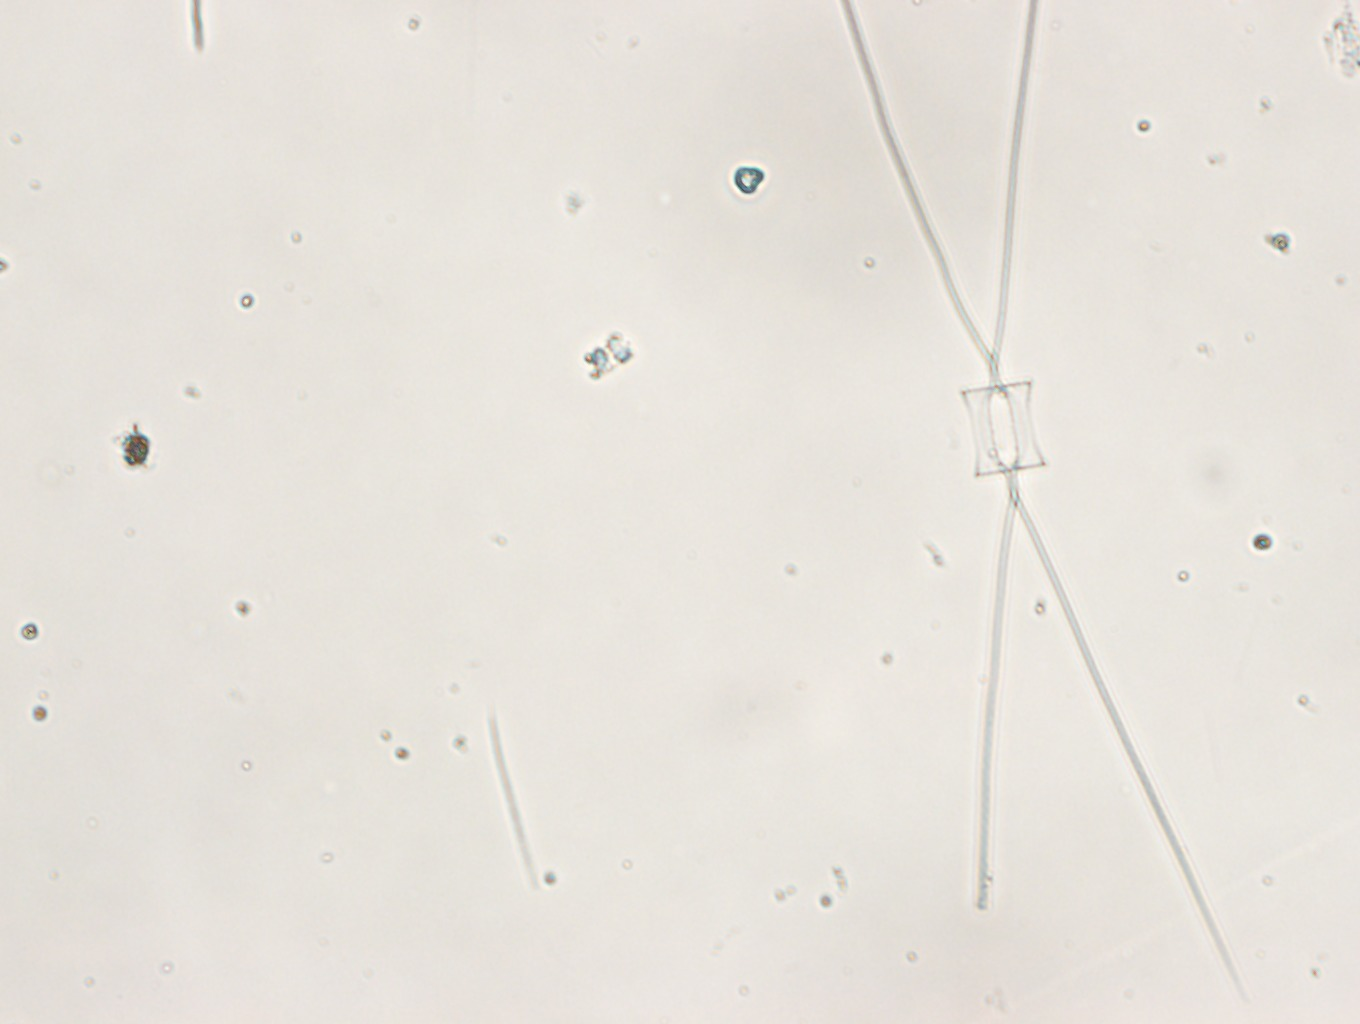chaetoceros: (827, 1, 1249, 1015)
